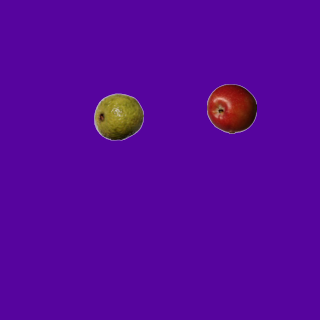Apple Braeburn: (206, 83, 256, 133)
Guava: (93, 91, 143, 141)
